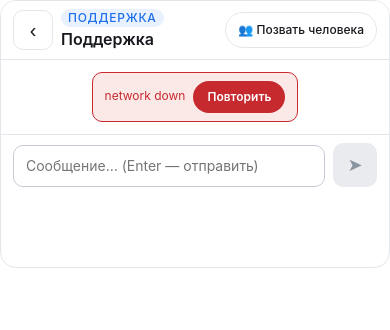
it: ChatRoom: лента сообщений › ошибка истории — inline-баннер с «Повторить» перезагружает ленту
Expected: the text "network down" is shown, [105, 88, 186, 105]
Click the button "Повторить": (240, 97) [194, 81, 286, 113]
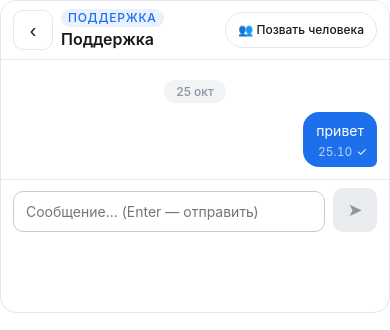
Expected: the text "привет" is shown, [316, 121, 364, 141]
